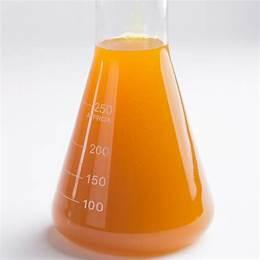Titrarion: (44, 6, 217, 259)
